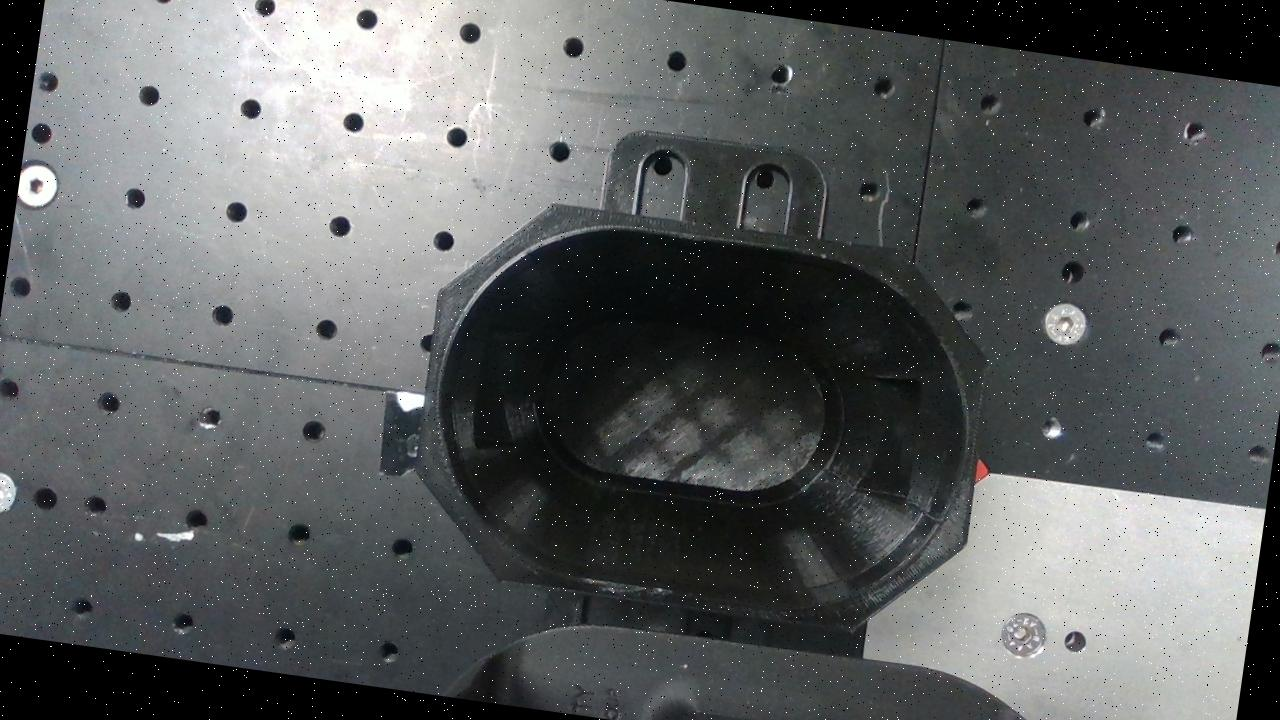small_interface: (398, 187, 1006, 648)
